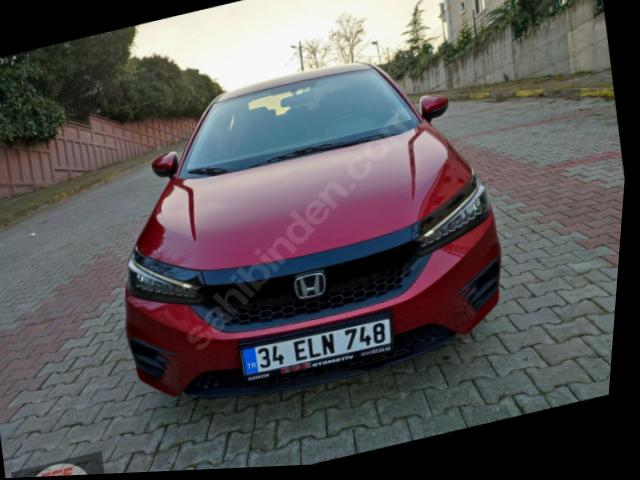plaka: (241, 314, 393, 380)
